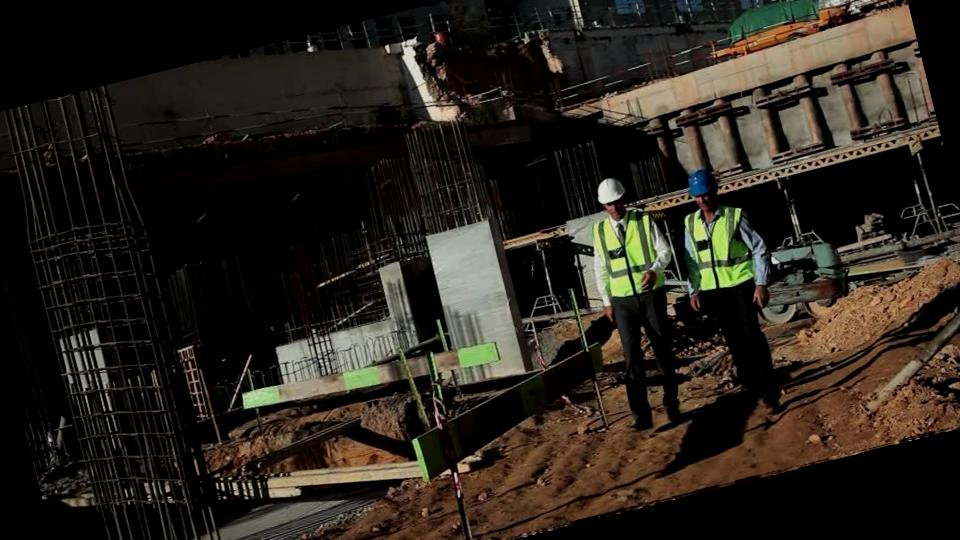helmet: (680, 162, 725, 202), (588, 172, 631, 208)
person: (566, 160, 724, 446), (659, 148, 812, 432)
